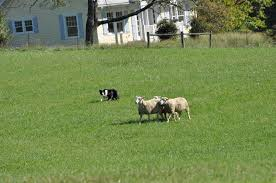sheep: (128, 94, 169, 127), (153, 95, 196, 123)
